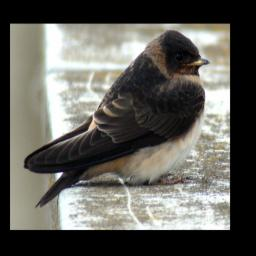Swallow: (23, 29, 212, 211)
